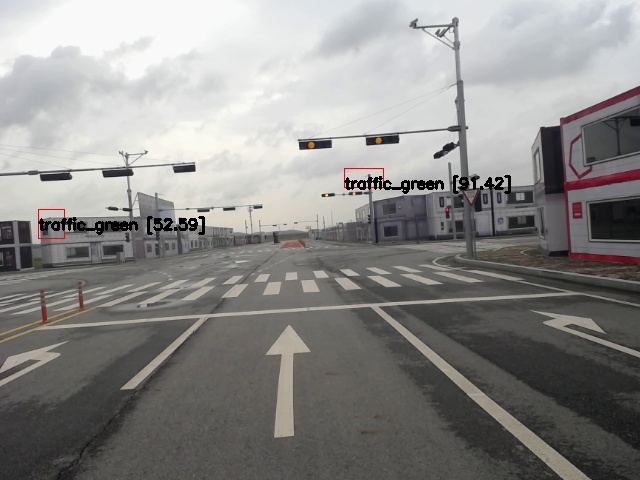orange_4: (366, 136, 400, 145), (299, 141, 332, 150)
